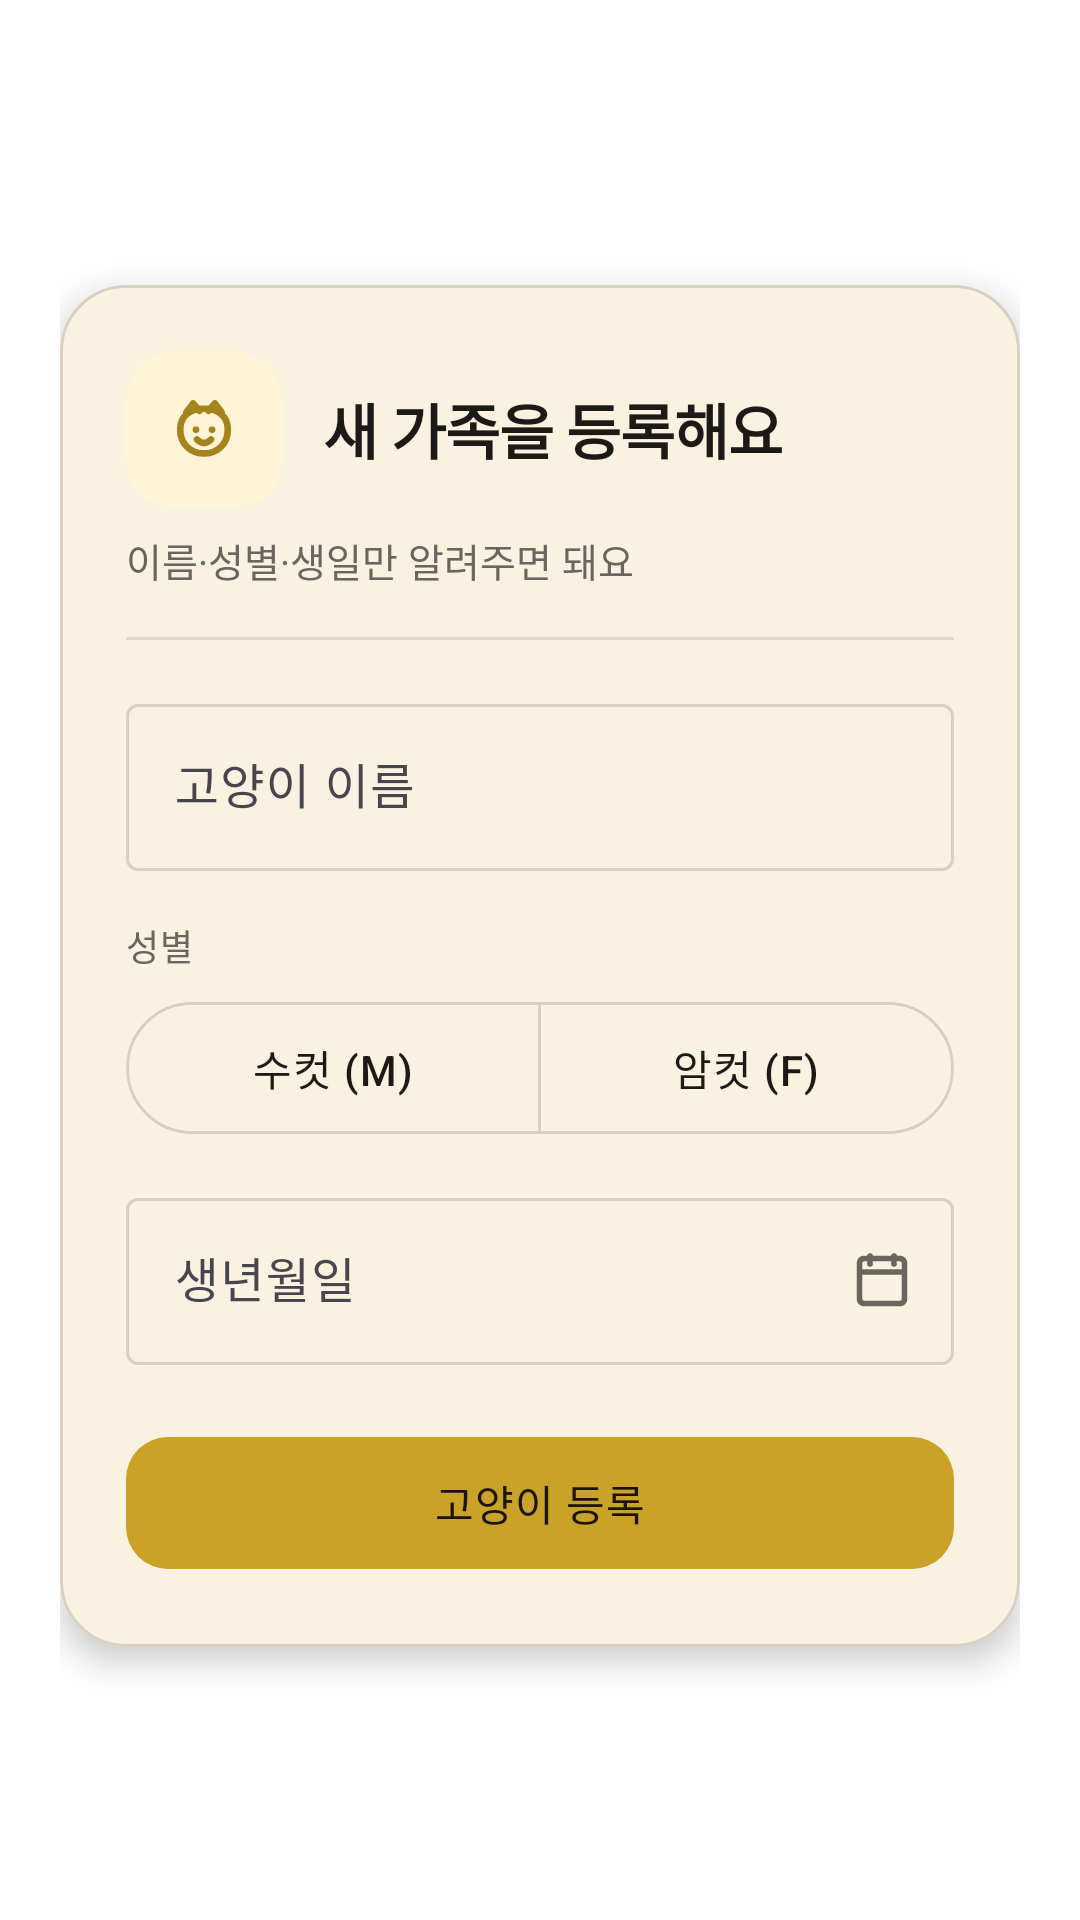

Icon bounding boxes for this 1080 x 1920 phone screenshot, format (x1, y1, x2, y2):
cat: (177, 400, 231, 457)
